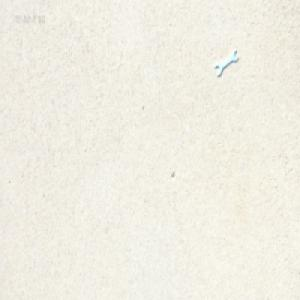Wrench: (213, 50, 238, 78)
